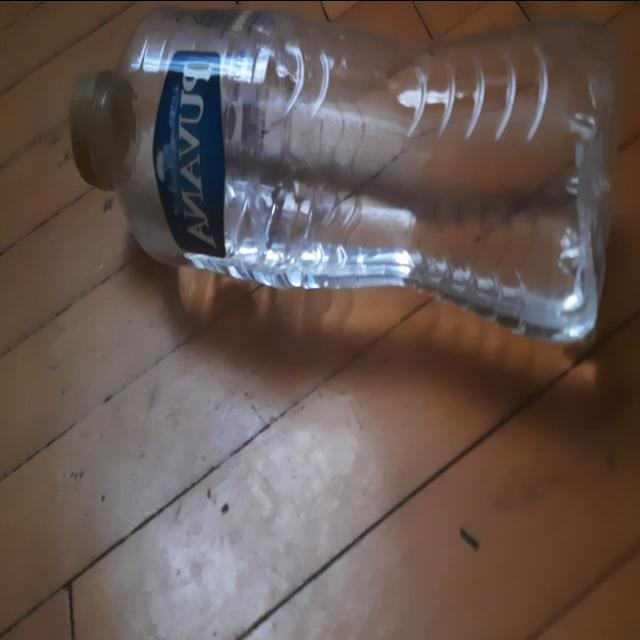Plastic: (70, 5, 640, 346)
